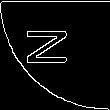N_E: (30, 35, 80, 75)
